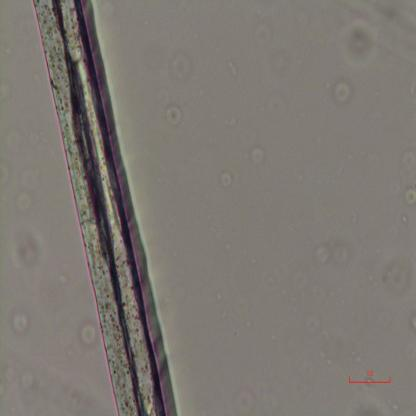Background material: (4, 178, 43, 270), (343, 22, 381, 66), (243, 13, 279, 52), (388, 255, 412, 292), (317, 239, 351, 264), (168, 51, 192, 85), (231, 385, 256, 415), (164, 102, 186, 127), (332, 79, 354, 103), (300, 314, 321, 336), (80, 320, 96, 347), (248, 144, 266, 168), (12, 312, 30, 334), (218, 169, 234, 189), (403, 187, 416, 204), (410, 312, 416, 331)
Microfibre: (33, 0, 165, 414)
